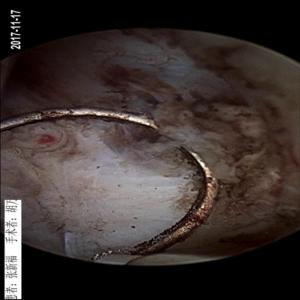film: (70, 69, 250, 187)
